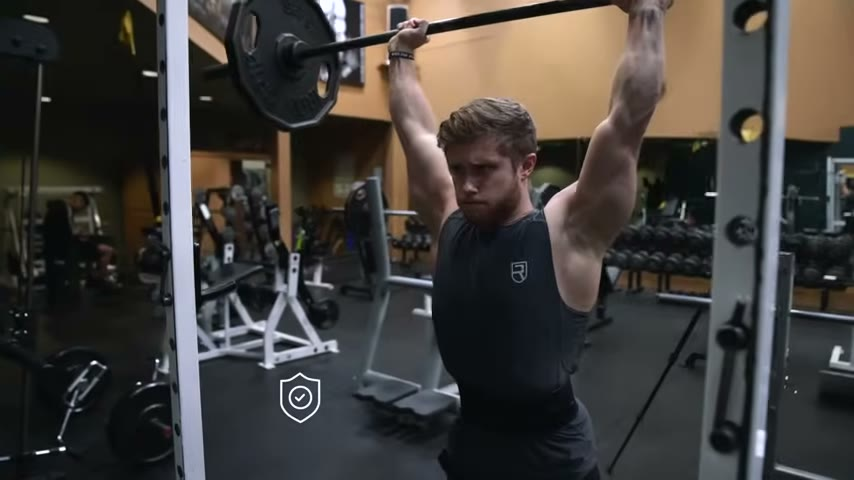barbell_plate_side: (225, 0, 309, 137)
